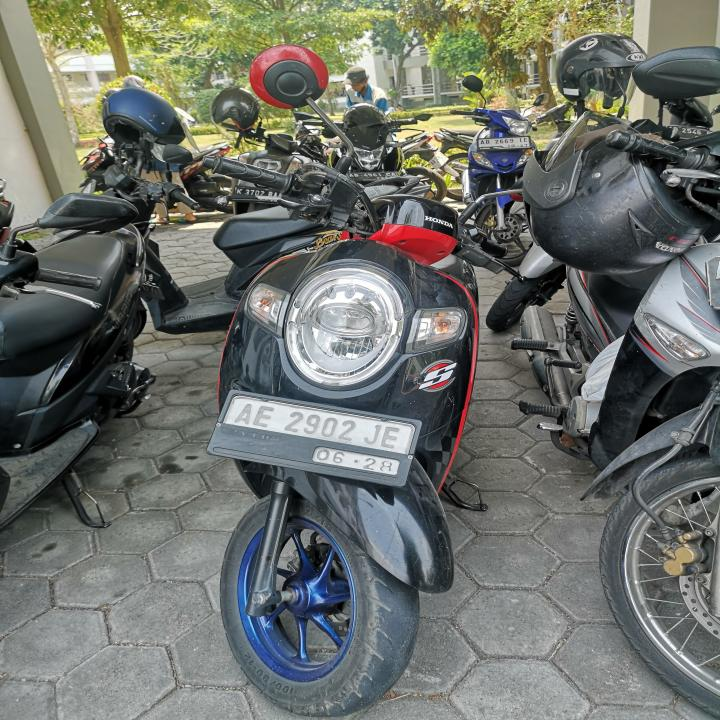plate: (220, 391, 418, 477), (477, 135, 532, 153), (228, 184, 280, 203), (348, 171, 398, 182)
